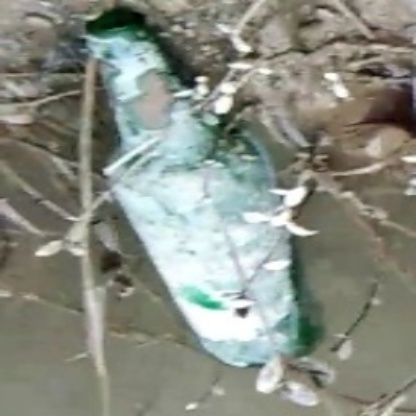bottle: (83, 9, 333, 370)
